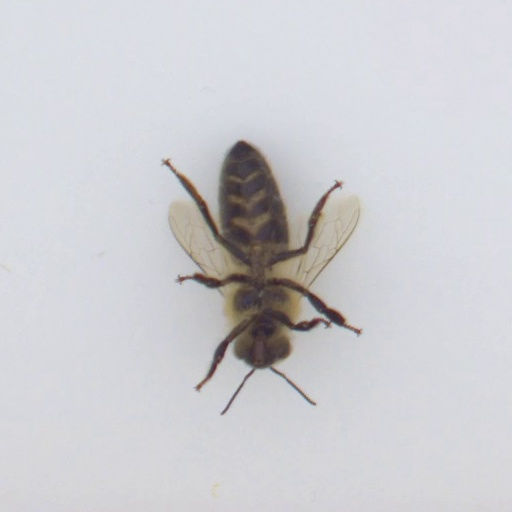Bee: (208, 136, 302, 371)
